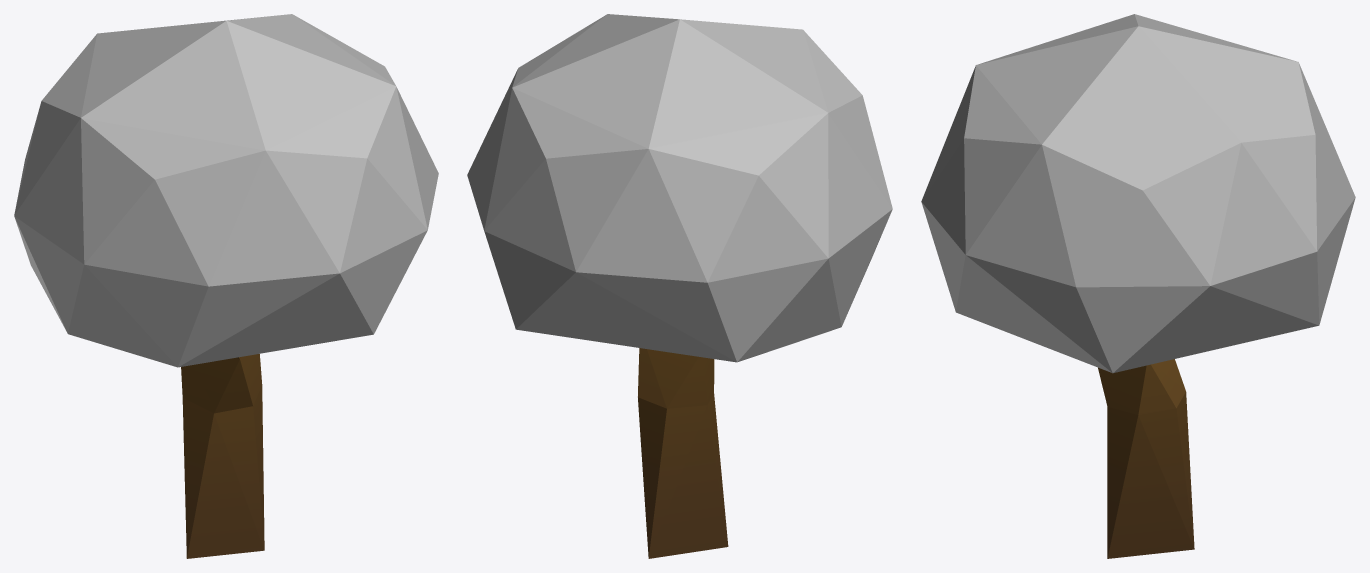
Rendered from Mushroom_03.fbx.
3 views of the same model, side by side, from view 1: azimuth 30°, elevation 25°; view 2: azimuth 150°, elevation 25°; view 3: azimuth 270°, elevation 25° (orthographic).
Parts seen in each view (by area): view 1: Mushroom_03; view 2: Mushroom_03; view 3: Mushroom_03.
Part boxes in pixels (left/top/right/bottom): Mushroom_03: left=14, top=14, right=438, bottom=558; Mushroom_03: left=467, top=14, right=892, bottom=558; Mushroom_03: left=921, top=14, right=1355, bottom=558.
Size of the model in its own units: 0.309 by 0.4275 by 0.3225.
